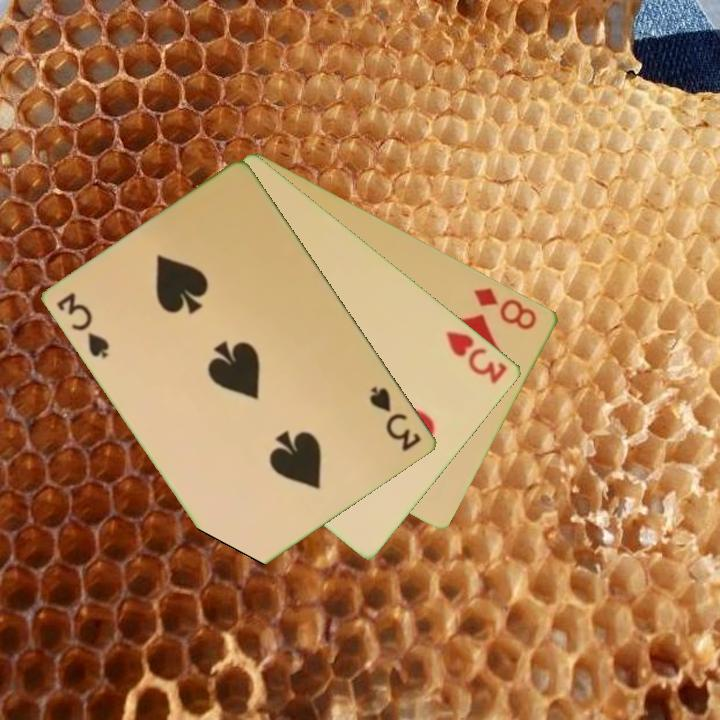3h: (442, 327, 511, 387)
3s: (54, 289, 113, 362), (366, 383, 425, 455)
8d: (470, 284, 541, 333)
